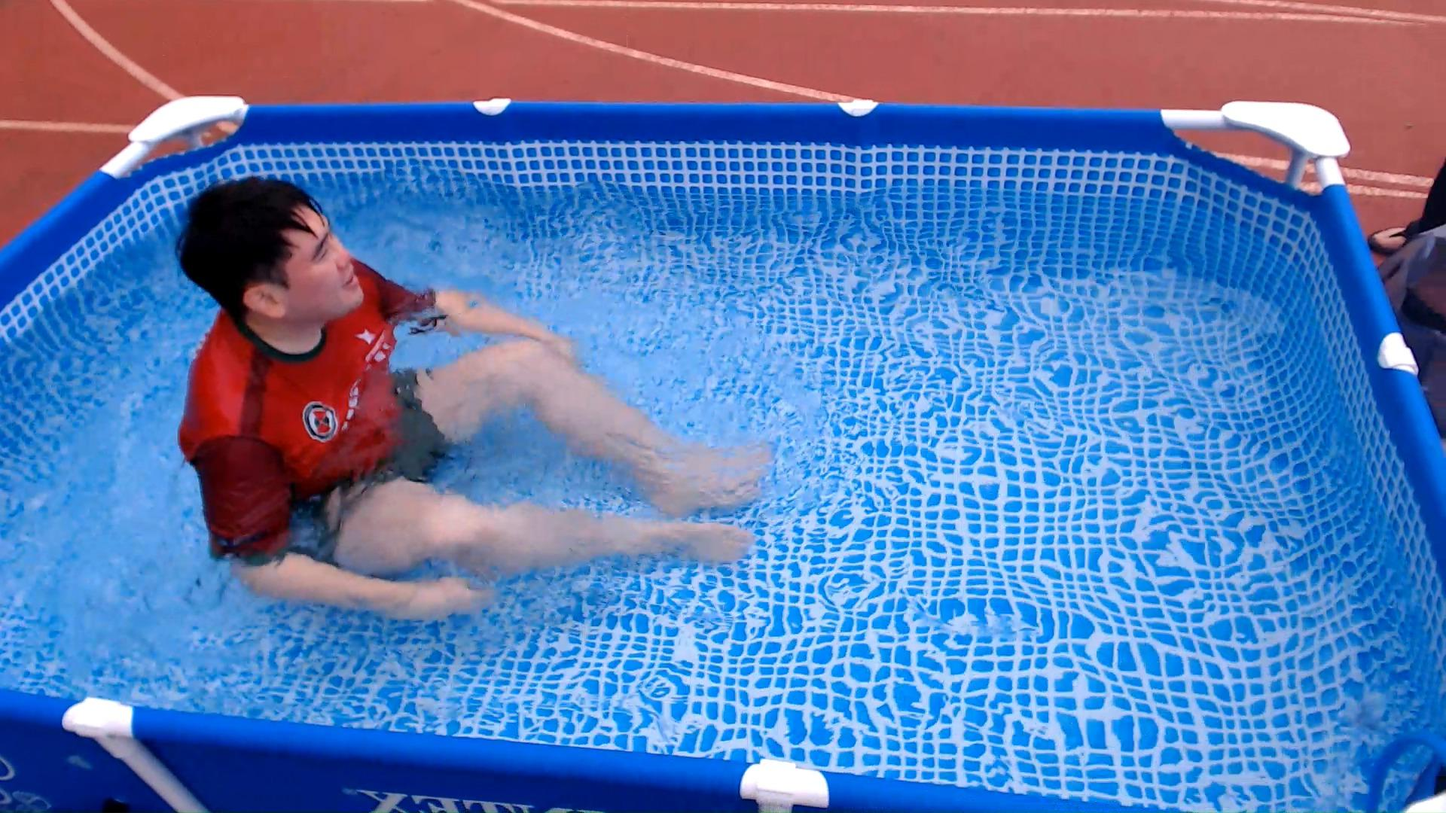Swimming: (107, 161, 850, 676)
